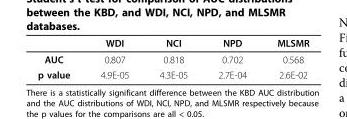table: (36, 36, 308, 79)
table column: (84, 36, 143, 79), (143, 36, 202, 79), (202, 36, 261, 79), (36, 36, 84, 79), (261, 36, 308, 79)
table column header: (36, 36, 308, 50)
table row: (36, 50, 308, 66), (36, 36, 308, 50), (36, 66, 308, 79)
